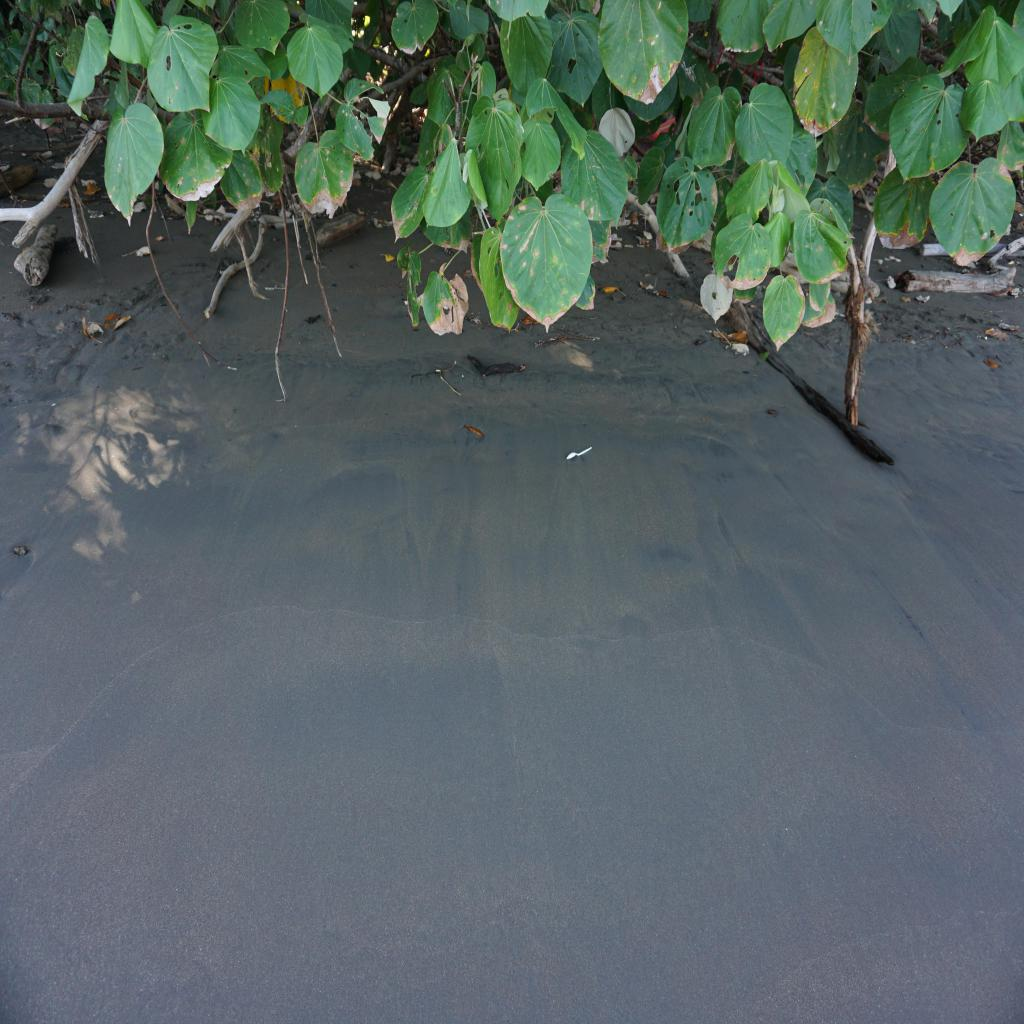Plastic utensils: (566, 447, 592, 459)
